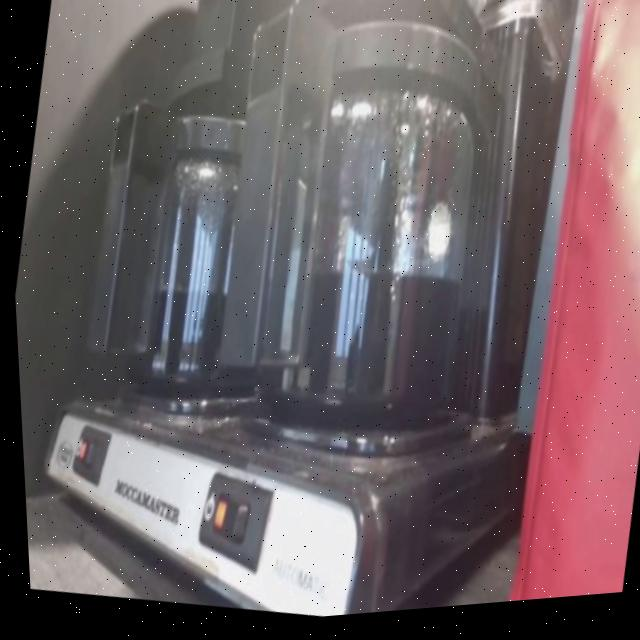coffee: (214, 0, 520, 453), (93, 78, 311, 420)
